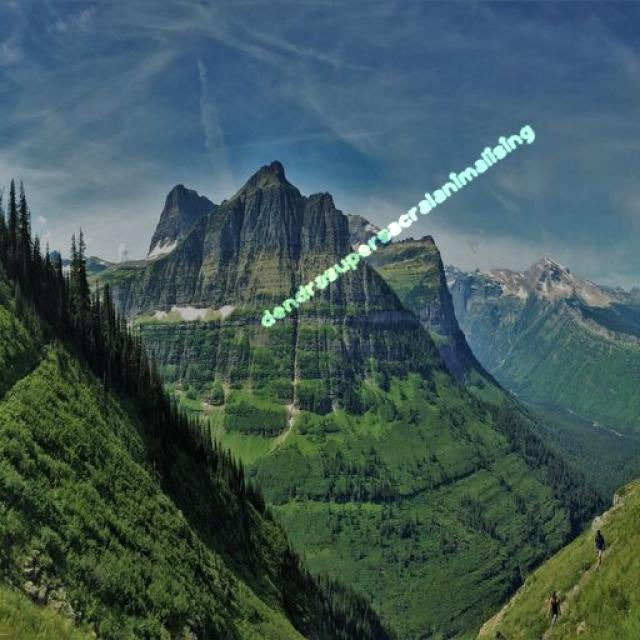watermark: (260, 116, 534, 332)
